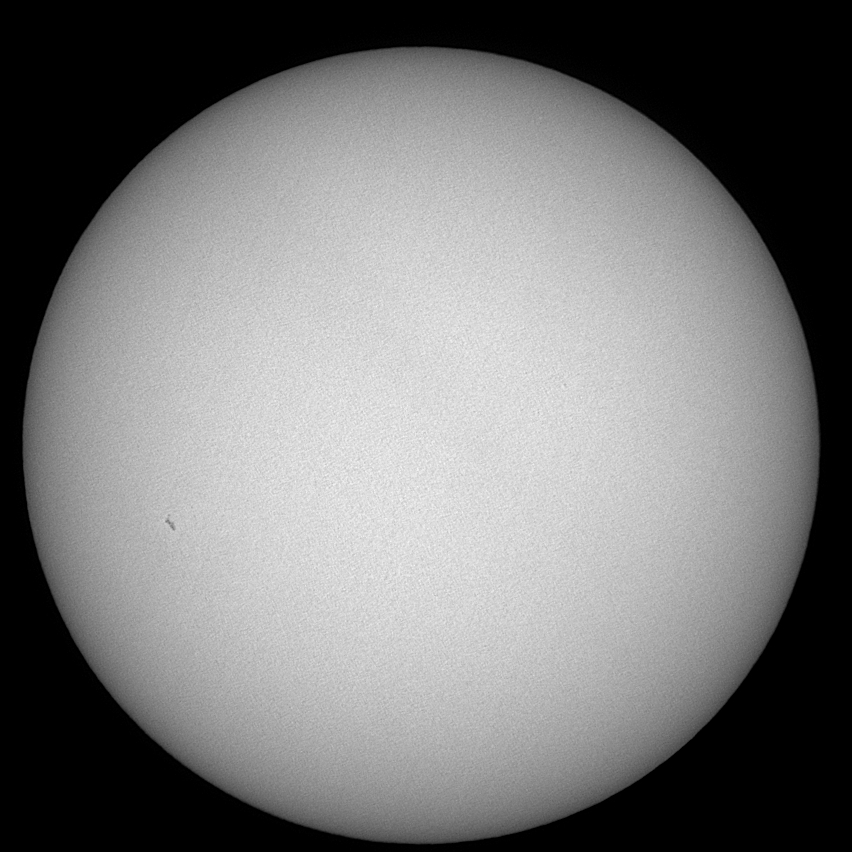sunspot: (160, 508, 181, 535)
